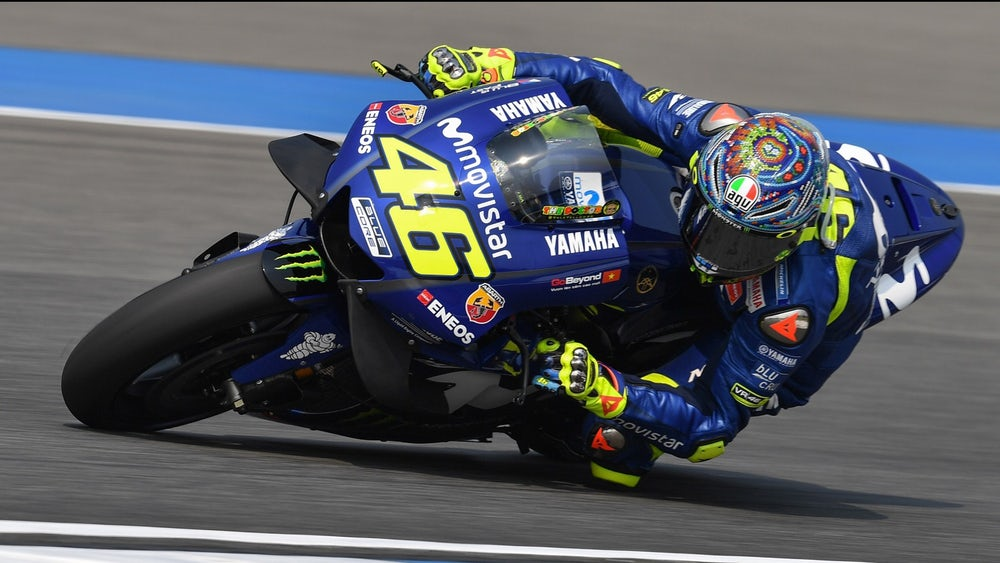helmet: (676, 102, 836, 286)
